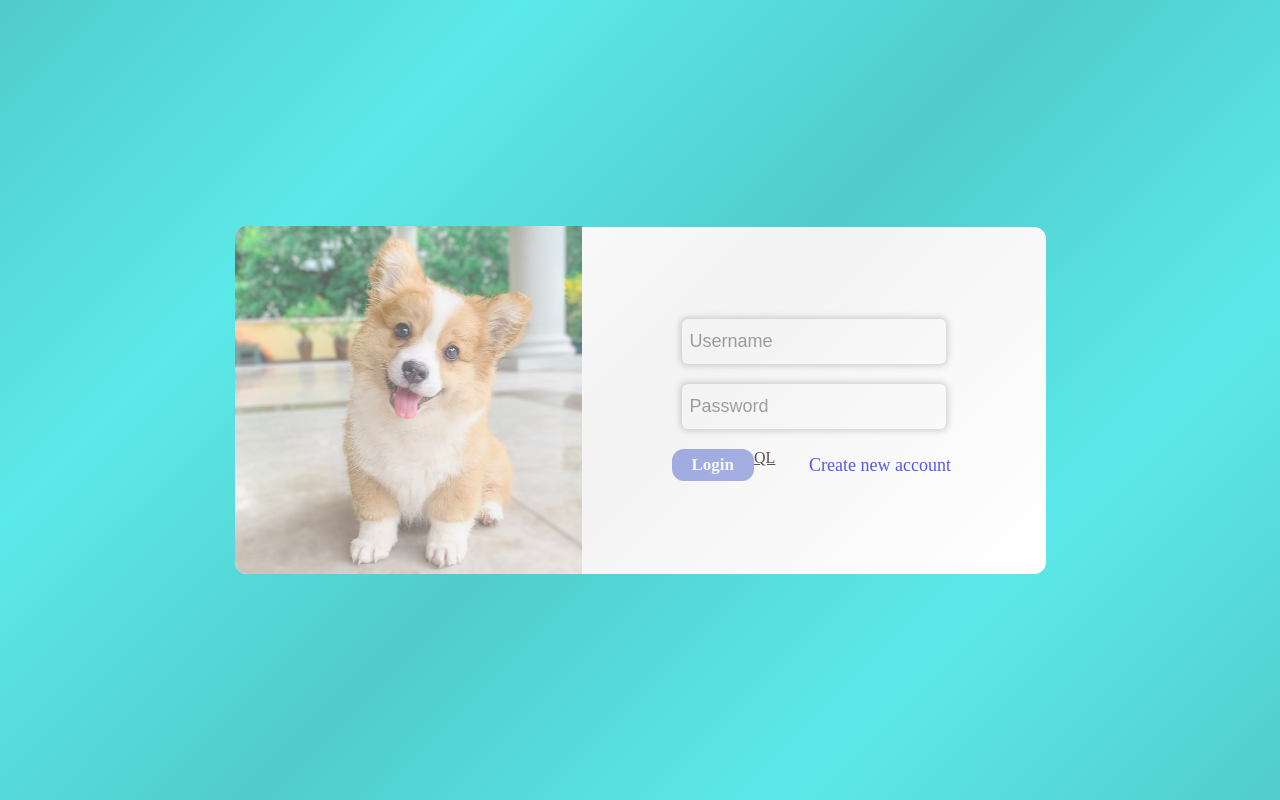
Fetch API › Create account fail will show fail message
Click the link with aria-label "sign-up-link": (880, 465) x1=809 y1=449 x2=951 y2=481
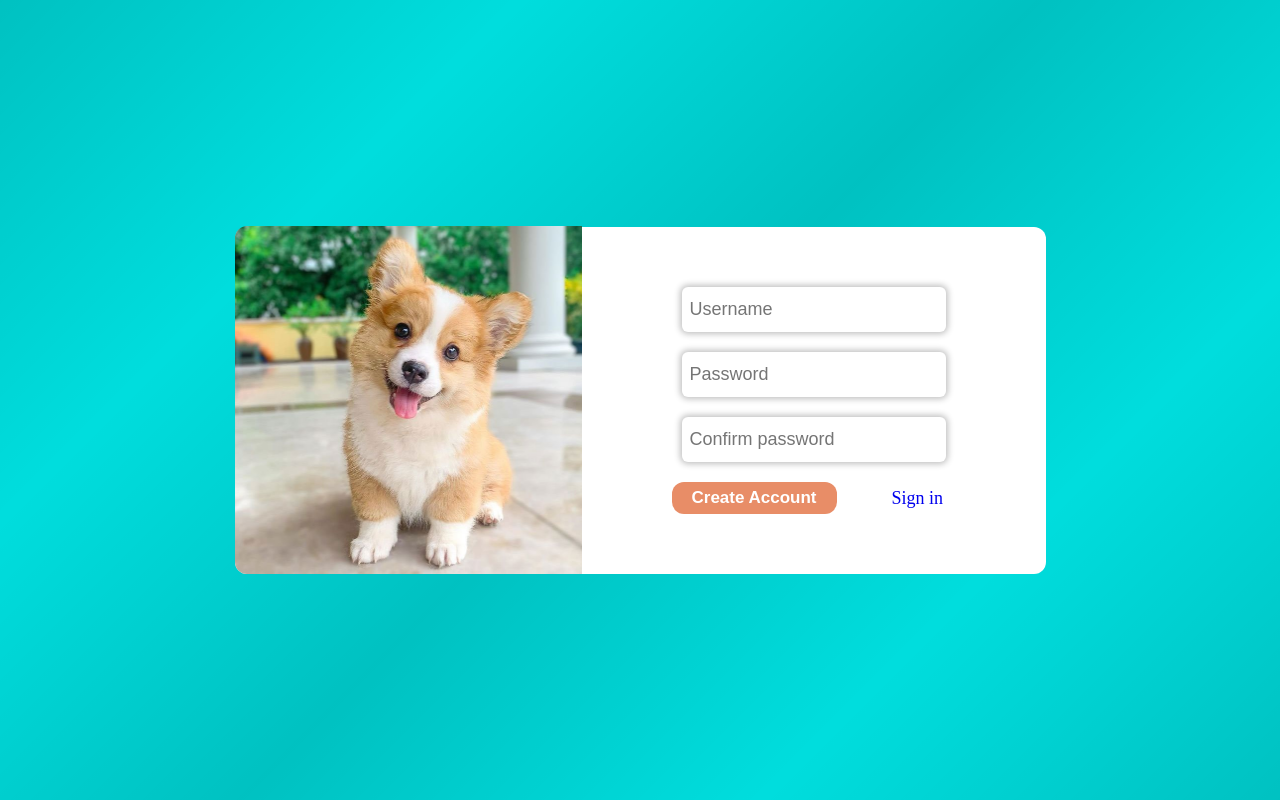
Now the button with test id "create-account" is shown
Click the button with test id "create-account": (754, 498) x1=672 y1=482 x2=836 y2=514
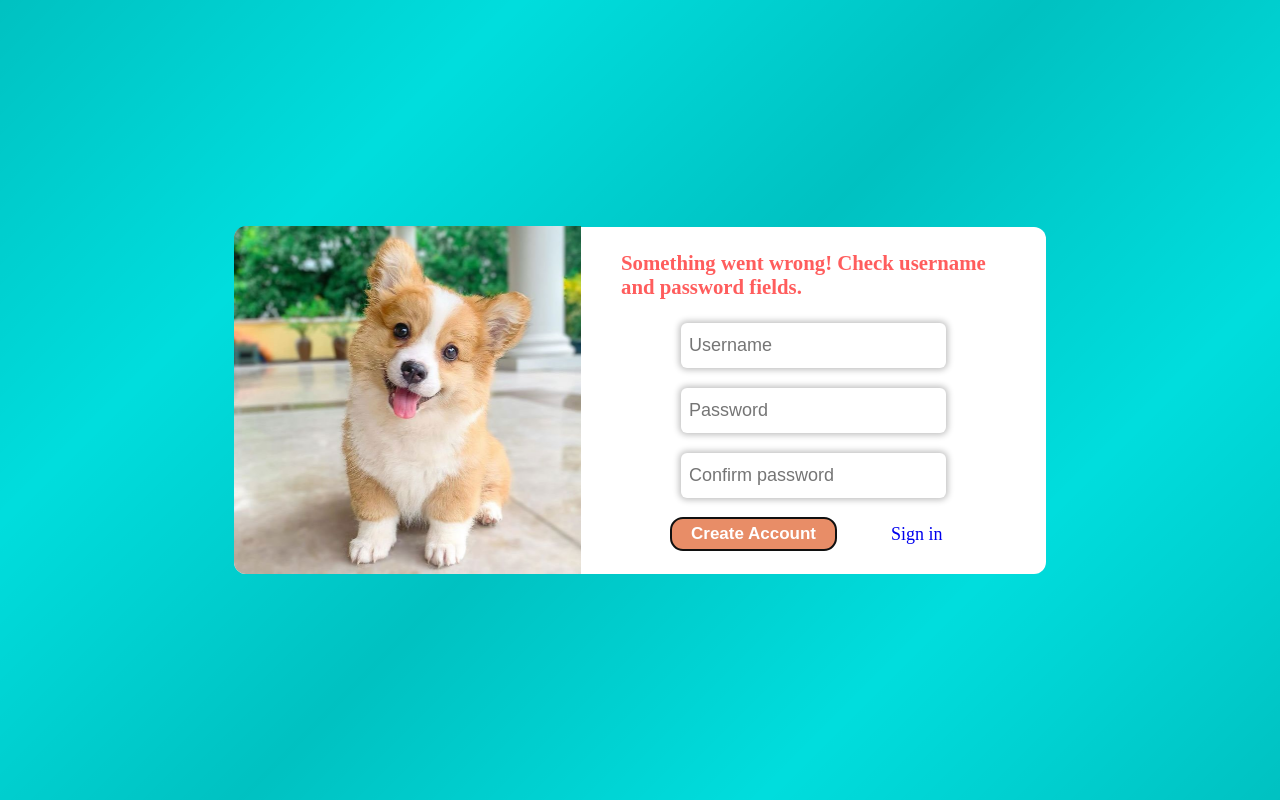
Now the text named "response-status" reads "Something went wrong! Check username and password fields.", box x1=621 y1=250 x2=986 y2=298
